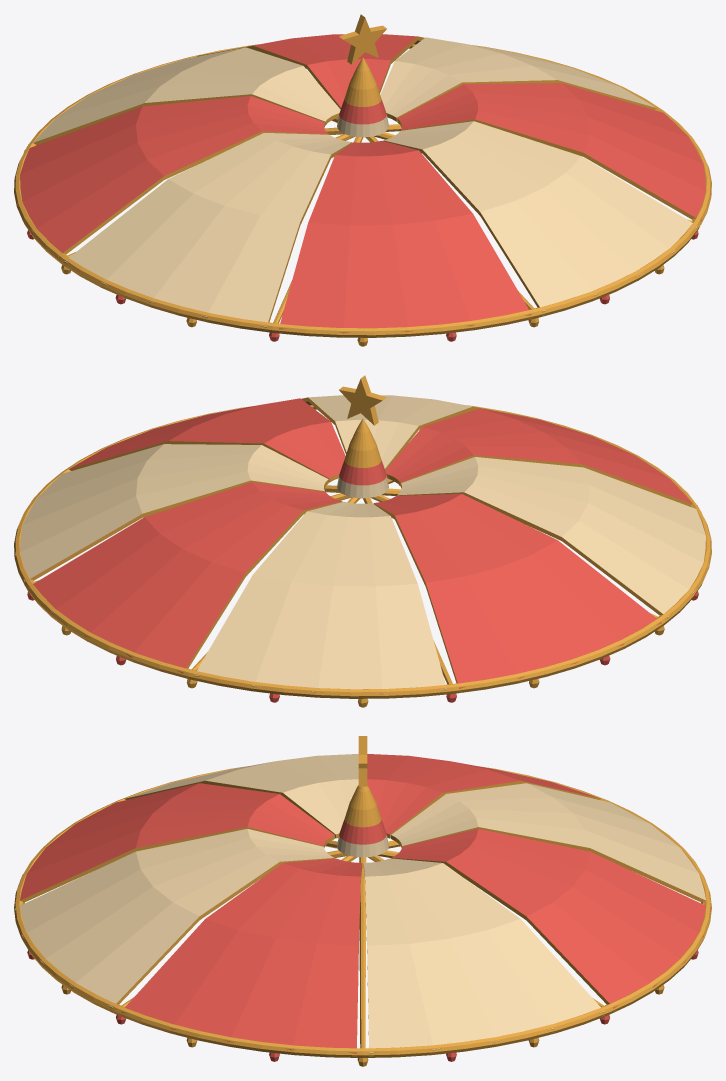
File: ParkParkCanopyRestored.obj
3 views of the same model, one above another, from view 1: azimuth 30°, elevation 25°; view 2: azimuth 150°, elevation 25°; view 3: azimuth 270°, elevation 25° (orthographic).
Visible parts, largest first — view 1: ParkParkCanopyRestored; view 2: ParkParkCanopyRestored; view 3: ParkParkCanopyRestored.
Part boxes in pixels (x1,y1,x2,y2): ParkParkCanopyRestored: [14, 14, 711, 346]; ParkParkCanopyRestored: [14, 375, 711, 707]; ParkParkCanopyRestored: [14, 736, 711, 1066].
Bounding box in the file's own units: 18.74 × 5.52 × 18.74.
Materials: 4 (4 with a texture image).
